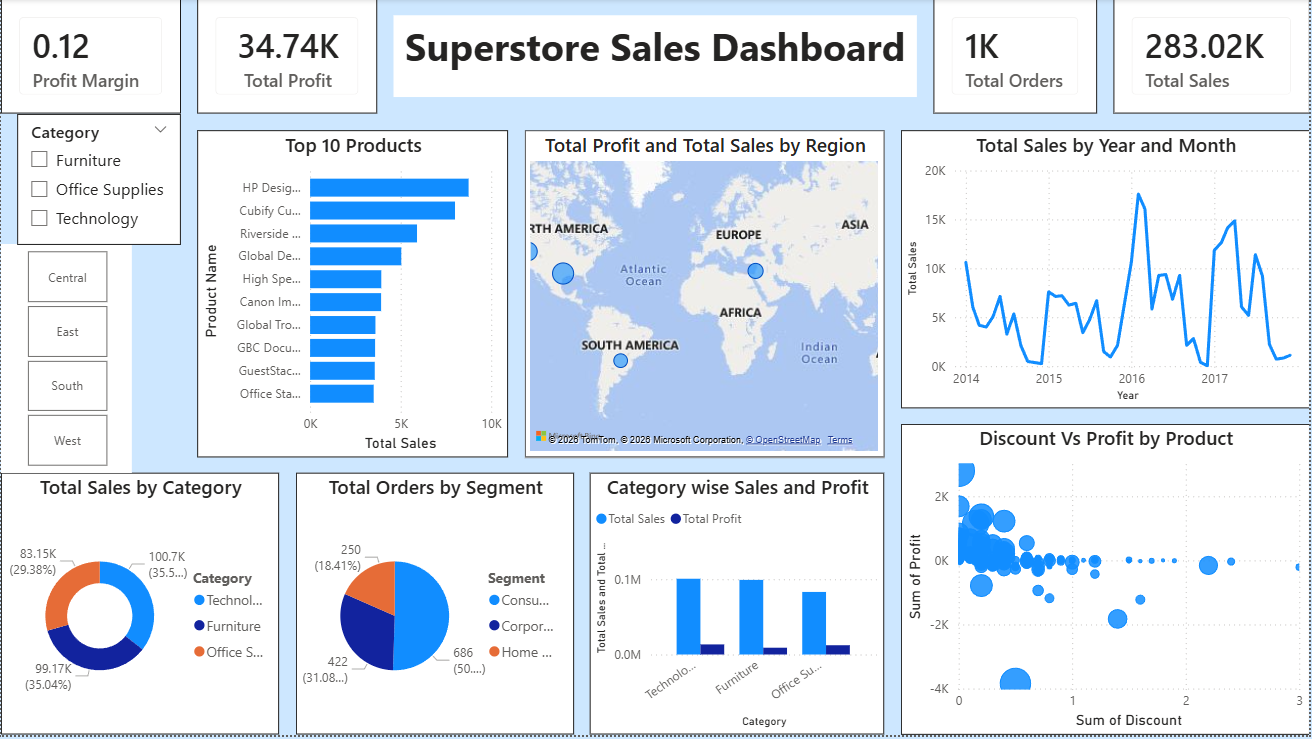

This screenshot's page, from the dashboard's own definition file:
{"tool":"powerbi","page":{"name":"Page 1","canvas":[1280,720],"ordinal":0},"visuals":[{"type":"lineChart","fields":{"Y":["Sample - Superstore.Total Sales"],"Category":["Sample - Superstore.Order Date.Variation.Date Hierarchy.Year","Sample - Superstore.Order Date.Variation.Date Hierarchy.Month"]},"box":[880,128,400,272],"z":0},{"type":"cardVisual","title":"Total Sales","fields":{"Data":["Sample - Superstore.Total Sales"]},"box":[1088,0,192,112],"z":1},{"type":"cardVisual","fields":{"Data":["Sample - Superstore.Total Orders"]},"box":[912,0,160,112],"z":2},{"type":"cardVisual","fields":{"Data":["Sample - Superstore.Total Profit"]},"box":[192,0,176,112],"z":4},{"type":"barChart","title":"Top 10 Products","fields":{"Y":["Sample - Superstore.Total Sales"],"Category":["Sample - Superstore.Product Name"]},"box":[192,128,304,320],"z":5},{"type":"cardVisual","fields":{"Data":["Sample - Superstore.Profit Margin"]},"box":[0,0,176,112],"z":6},{"type":"clusteredColumnChart","title":"Category wise Sales and Profit","fields":{"Category":["Sample - Superstore.Category"],"Y":["Sample - Superstore.Total Sales","Sample - Superstore.Total Profit"]},"box":[576,464,288,256],"z":7},{"type":"map","fields":{"Category":["Sample - Superstore.Region"],"Size":["Sample - Superstore.Total Profit"]},"box":[512,128,352,320],"z":8},{"type":"scatterChart","title":"Discount Vs Profit by Product","fields":{"X":["Sum(Sample - Superstore.Discount)"],"Y":["Sum(Sample - Superstore.Profit)"],"Category":["Sample - Superstore.Product Name"],"Size":["Sum(Sample - Superstore.Sales)"]},"box":[880,416,400,304],"z":9},{"type":"donutChart","fields":{"Y":["Sample - Superstore.Total Sales"],"Category":["Sample - Superstore.Category"]},"box":[0,464,272,256],"z":10},{"type":"pieChart","fields":{"Category":["Sample - Superstore.Segment"],"Y":["Sample - Superstore.Total Orders"]},"box":[288,464,272,256],"z":11},{"type":"slicer","fields":{"Values":["Sample - Superstore.Region"]},"box":[0,240,128,224],"z":12},{"type":"slicer","fields":{"Values":["Sample - Superstore.Category"]},"box":[16,112,160,128],"z":13},{"type":"textbox","box":[384,16,512,80],"z":14}]}

Visuals, with their boxes in screenshot pixels (x1, y1, x2, y2), scaled from the page's 1280x720 canvas onto the 1312x739 screenshot:
lineChart - Sample - Superstore.Total Sales x Sample - Superstore.Order Date.Variation.Date Hierarchy.Year: detection(902, 131, 1311, 411)
"Total Sales" cardVisual: detection(1115, 0, 1311, 115)
cardVisual - Sample - Superstore.Total Orders: detection(935, 0, 1099, 115)
cardVisual - Sample - Superstore.Total Profit: detection(197, 0, 377, 115)
"Top 10 Products" barChart: detection(197, 131, 508, 460)
cardVisual - Sample - Superstore.Profit Margin: detection(0, 0, 180, 115)
"Category wise Sales and Profit" clusteredColumnChart: detection(590, 476, 886, 738)
map - Sample - Superstore.Region x Sample - Superstore.Total Profit: detection(525, 131, 886, 460)
"Discount Vs Profit by Product" scatterChart: detection(902, 427, 1311, 738)
donutChart - Sample - Superstore.Total Sales x Sample - Superstore.Category: detection(0, 476, 279, 738)
pieChart - Sample - Superstore.Segment x Sample - Superstore.Total Orders: detection(295, 476, 574, 738)
slicer - Sample - Superstore.Region: detection(0, 246, 131, 476)
slicer - Sample - Superstore.Category: detection(16, 115, 180, 246)
textbox: detection(394, 16, 918, 99)
